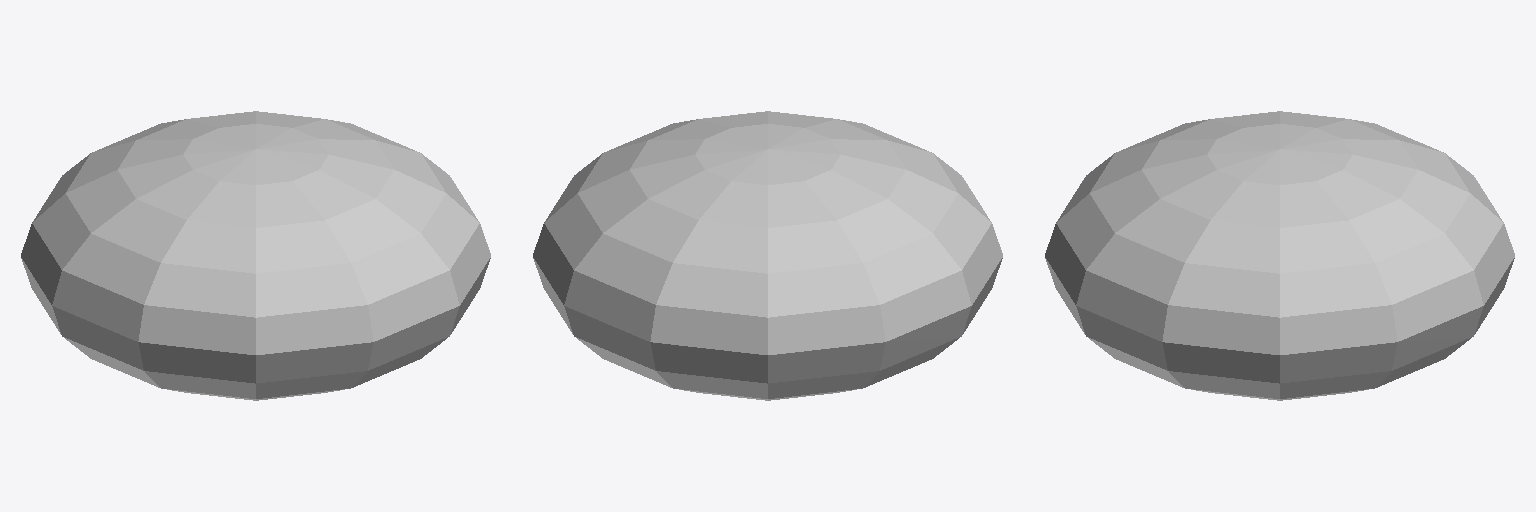
File: sphere_normal.obj
3 renders of one model, left to right at view 1: azimuth 30°, elevation 25°; view 2: azimuth 150°, elevation 25°; view 3: azimuth 270°, elevation 25°, orthographic.
Parts seen in each view (by area): view 1: Sphere; view 2: Sphere; view 3: Sphere.
Part boxes in pixels (left/top/right/bottom): Sphere: left=21, top=111, right=490, bottom=400; Sphere: left=533, top=111, right=1002, bottom=400; Sphere: left=1045, top=111, right=1514, bottom=400.
Size of the model in its own units: 1.5 by 0.75 by 1.5.